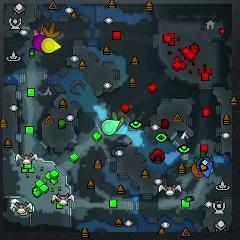p1: (198, 159, 212, 178)
p2: (101, 120, 118, 134)
p3: (32, 36, 45, 50)
p4: (43, 38, 60, 54)
p5: (193, 164, 203, 180)
x1: (34, 27, 45, 38)
x2: (110, 112, 125, 127)
x4: (195, 152, 215, 162)
x5: (43, 21, 60, 39)
